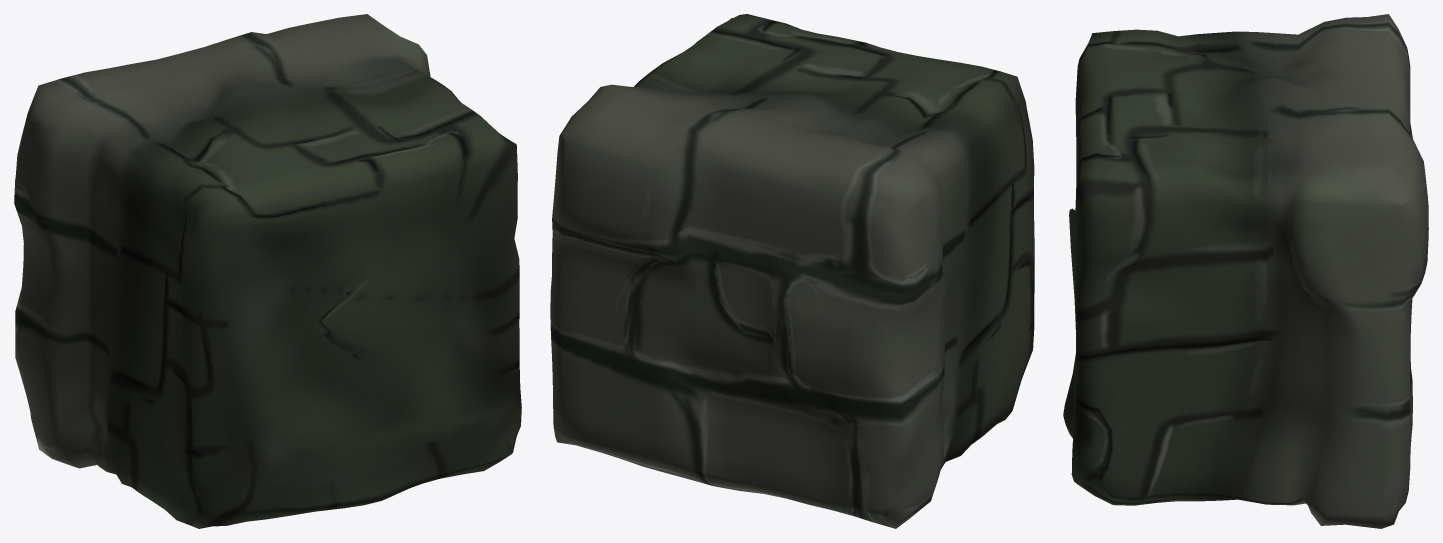
The model's file is Platform Castle.fbx.
3 renders of one model, left to right at view 1: azimuth 30°, elevation 25°; view 2: azimuth 150°, elevation 25°; view 3: azimuth 270°, elevation 25°, orthographic. The views are drawn at different scales.
Parts seen in each view (by area): view 1: platform; view 2: platform; view 3: platform.
Boxes of the visible parts, <box> form: platform: <box>14,14,521,528</box>; platform: <box>550,14,1034,528</box>; platform: <box>1063,14,1428,528</box>.
Bounding box in the file's own units: 1.97 × 1.85 × 1.68.
